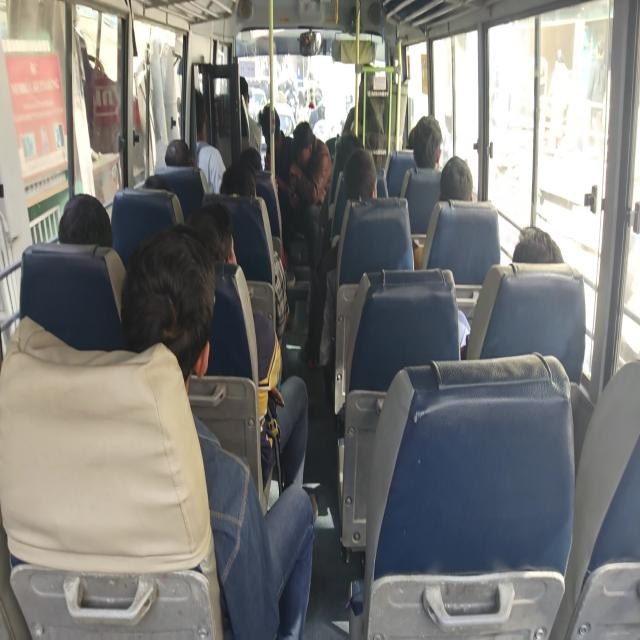person: (129, 241, 204, 357), (182, 194, 242, 280), (59, 193, 118, 263), (509, 233, 569, 297), (340, 144, 379, 211), (221, 171, 269, 215), (446, 150, 482, 207), (156, 128, 195, 176), (181, 86, 213, 139), (239, 151, 279, 193), (409, 122, 442, 171), (137, 158, 172, 202), (352, 63, 390, 97), (293, 124, 317, 166), (236, 72, 258, 112), (263, 97, 281, 143)
